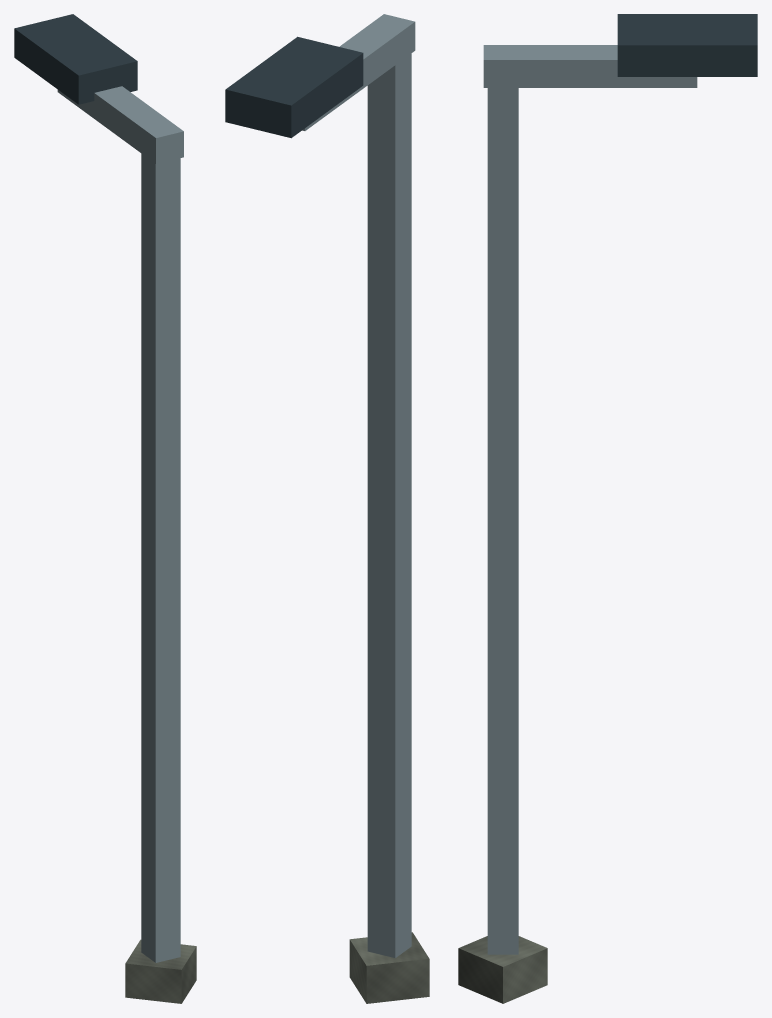
Rendered from prop_streetlight_modern_ShadowProxy.glb.
The picture shows the model from 3 angles, left to right: view 1: azimuth 30°, elevation 25°; view 2: azimuth 150°, elevation 25°; view 3: azimuth 270°, elevation 25°; orthographic projection. The views are drawn at different scales.
Visible parts, largest first — view 1: prop_streetlight_modern__surface.003; view 2: prop_streetlight_modern__surface.003; view 3: prop_streetlight_modern__surface.003.
Boxes of the visible parts, bbox=[...] form: prop_streetlight_modern__surface.003: bbox=[14, 14, 196, 1003]; prop_streetlight_modern__surface.003: bbox=[225, 14, 429, 1003]; prop_streetlight_modern__surface.003: bbox=[458, 14, 757, 1003].
Bounding box in the file's own units: 0.46 × 5.43 × 1.54.
Materials: 4 (1 with a texture image).
